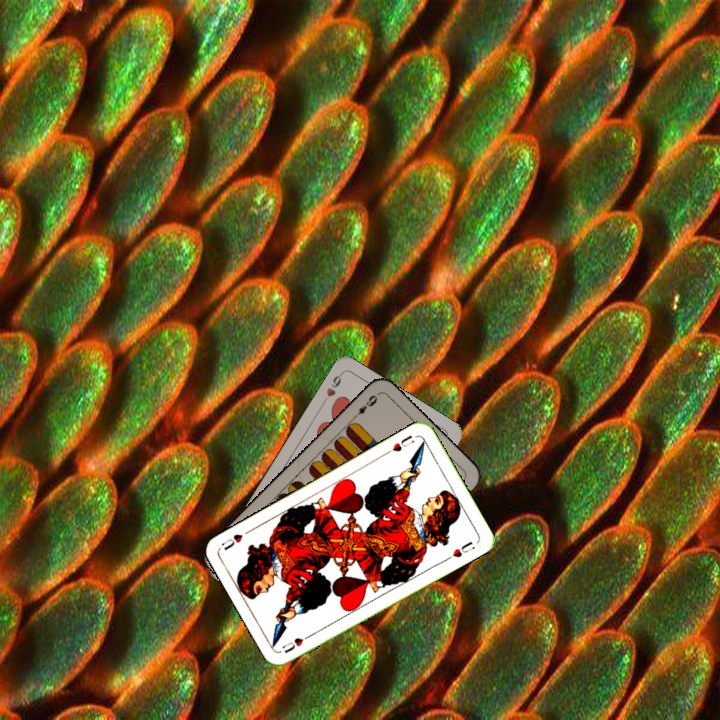E9: (348, 391, 380, 422)
H9: (319, 369, 345, 405)
HU: (278, 630, 315, 656), (382, 431, 417, 457)
